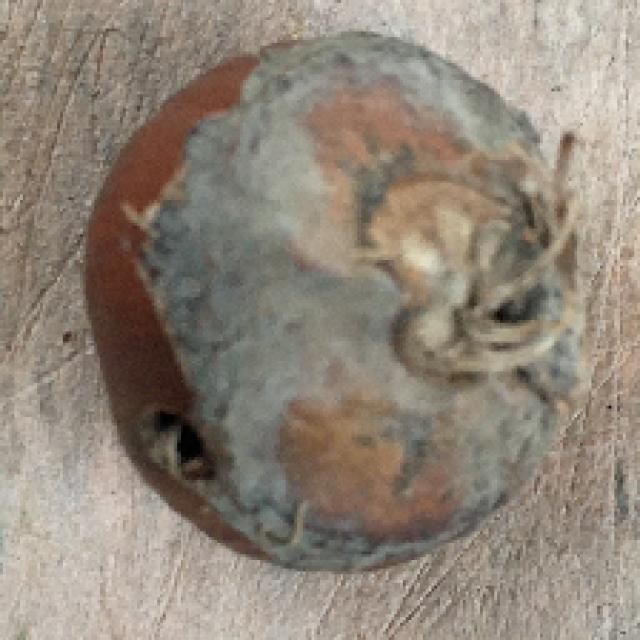damagedHazelnut: (90, 27, 581, 568)
